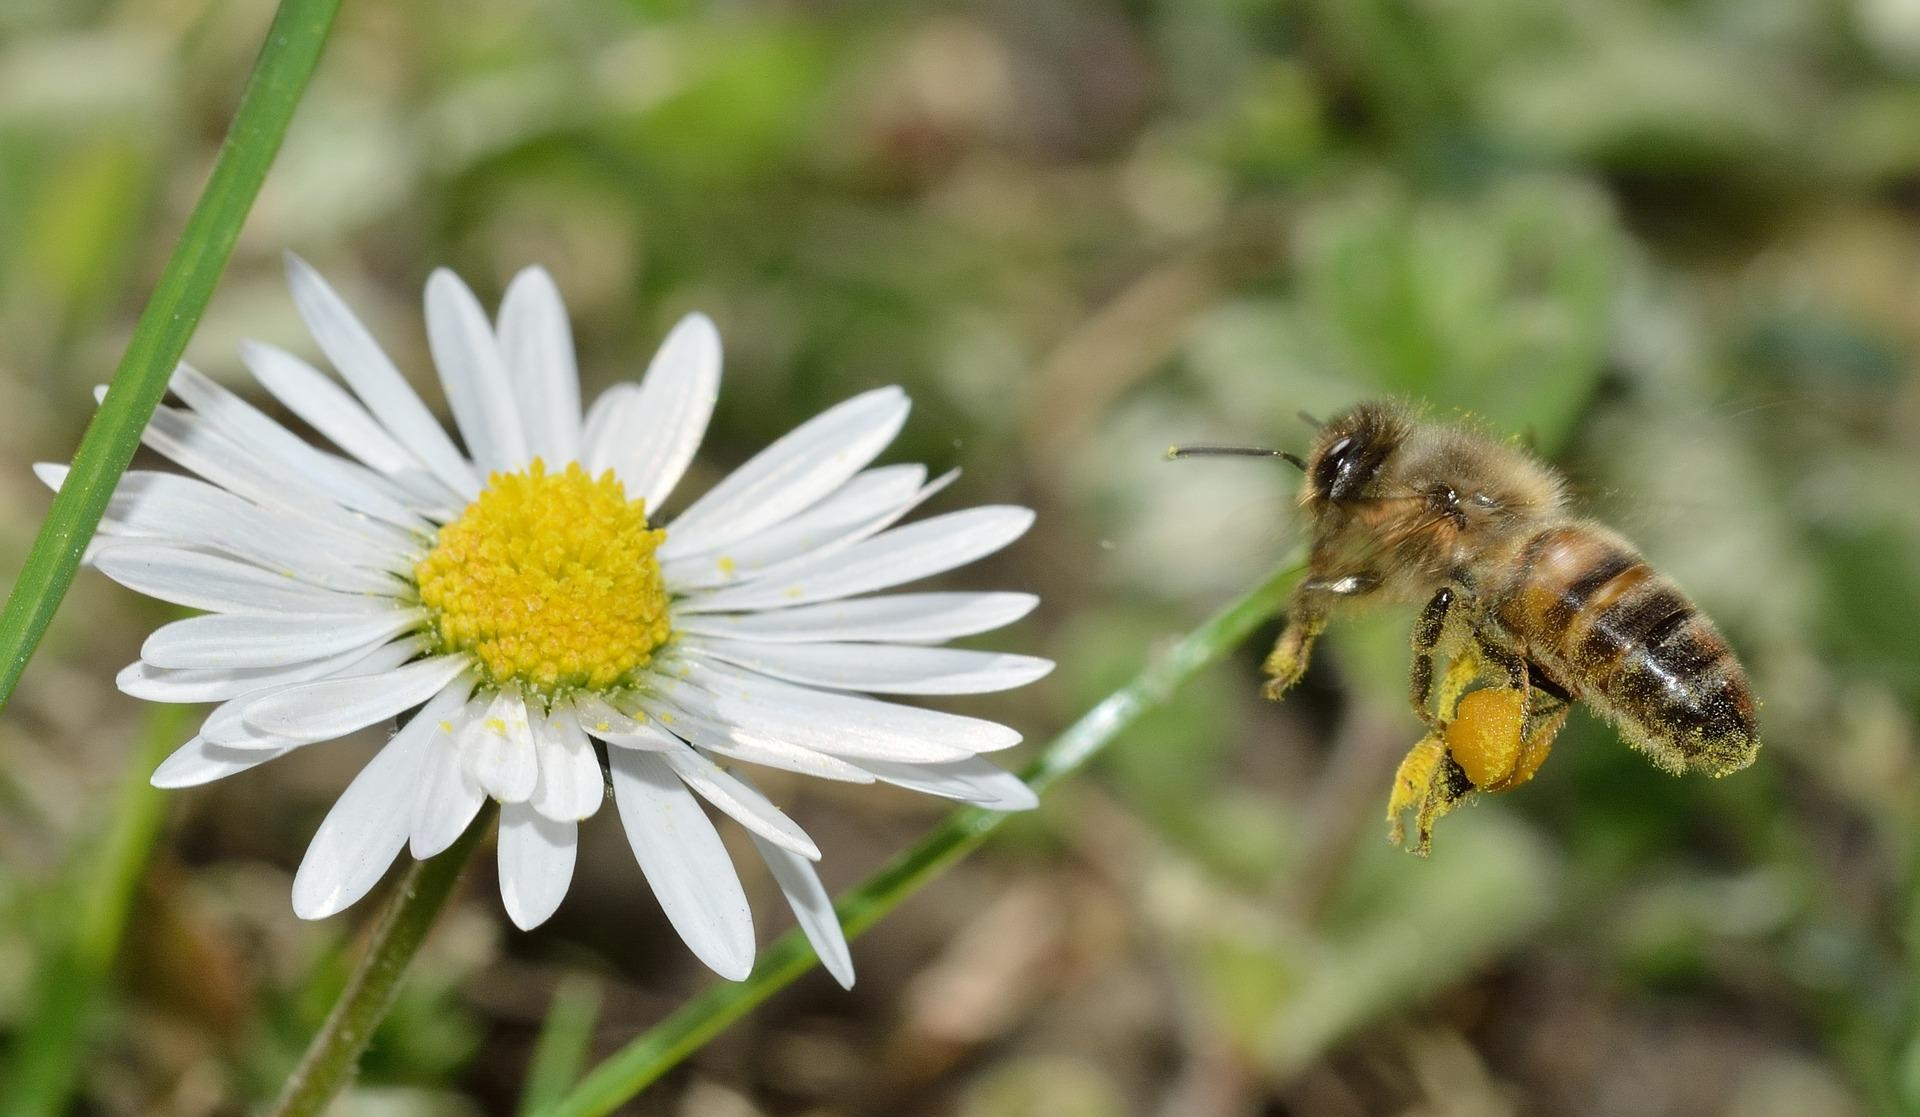Apis-mellifera-scutellata: (1161, 375, 1795, 843)
